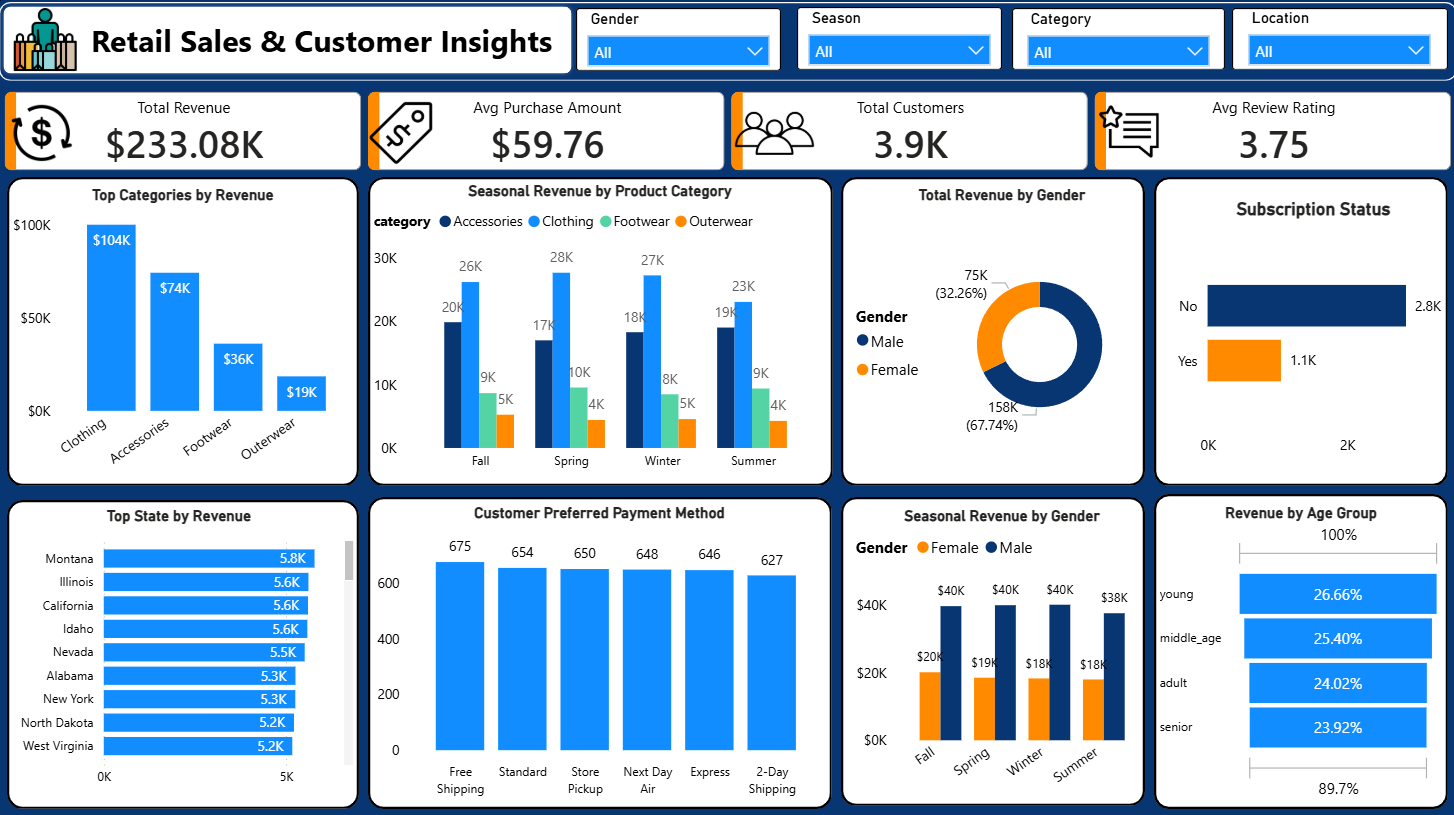

What the dashboard file says about the page in this screenshot:
{"tool":"powerbi","page":{"name":"Page 1","canvas":[1280,720],"ordinal":0},"visuals":[{"type":"shape","box":[0,2.6,1280.2,69.4],"z":0},{"type":"shape","box":[0,2.6,506.6,66.7],"z":1000},{"type":"cardVisual","fields":{"Data":["public customer.Total Revenue","public customer.Avg Purchase Amount","public customer.Number Of Customers","public customer.Avg Review Rating"]},"box":[0,76.4,1280.2,79.9],"z":2000},{"type":"image","box":[7,6.1,67.6,58.8],"z":3000},{"type":"shape","box":[7,156.3,309.1,271.3],"z":4000},{"type":"shape","box":[324,437.3,407.4,274],"z":5000},{"type":"columnChart","title":"Top Categories by Revenue","fields":{"Category":["public customer.category"],"Y":["Sum(public customer.purchase_amount)"]},"box":[7,164.2,309.1,263.4],"z":6000},{"type":"shape","box":[739.3,156.3,266.9,271.3],"z":7000},{"type":"donutChart","title":"Total Revenue by Gender","fields":{"Category":["public customer.gender"],"Y":["Sum(public customer.purchase_amount)"]},"box":[747.2,164.2,266.9,263.4],"z":8000},{"type":"shape","box":[324,156.3,408.3,271.3],"z":9000},{"type":"clusteredColumnChart","title":"Seasonal Revenue  by Product Category","fields":{"Category":["public customer.season"],"Y":["Sum(public customer.purchase_amount)"],"Series":["public customer.category"]},"box":[324,160.7,407.4,262.5],"z":10000},{"type":"shape","box":[1014.1,156.3,258.1,271.3],"z":11000},{"type":"barChart","title":"Subscription Status","fields":{"Category":["public customer.subscription_status"],"Y":["CountNonNull(public customer.subscription_status)"]},"box":[1028.2,174.7,252,235.3],"z":12000},{"type":"shape","box":[7,439.9,309.1,271.3],"z":13000},{"type":"columnChart","title":"Customer Preferred Payment Method","fields":{"Category":["public customer.shipping_type"],"Y":["CountNonNull(public customer.customer_id)"]},"box":[326.6,443.4,401.3,265.2],"z":14000},{"type":"shape","box":[739.3,437.3,266.9,271.3],"z":15000},{"type":"clusteredColumnChart","title":"Seasonal Revenue by Gender","fields":{"Y":["Sum(public customer.purchase_amount)"],"Series":["public customer.gender"],"Category":["public customer.season"]},"box":[747.2,446,266.9,265.2],"z":16000},{"type":"barChart","title":"Top State by Revenue","fields":{"Category":["public customer.location"],"Y":["Sum(public customer.purchase_amount)"]},"box":[0,446,316.1,254.6],"z":17000},{"type":"shape","box":[1014.1,434.6,258.1,276.6],"z":18000},{"type":"shape","box":[506.6,7.9,180,55.3],"z":19000},{"type":"shape","box":[700.7,7,180,55.3],"z":20000},{"type":"shape","box":[889.5,7.9,187,54.4],"z":21000},{"type":"shape","box":[1082.6,7.9,189.7,54.4],"z":22000},{"type":"funnel","title":"Revenue by Age Group","fields":{"Category":["public customer.age_group"],"Y":["Sum(public customer.purchase_amount)"]},"box":[1014.1,443.4,258.1,265.2],"z":23000},{"type":"slicer","fields":{"Values":["public customer.gender"]},"box":[506.6,7,180,58],"z":24000},{"type":"slicer","fields":{"Values":["public customer.season"]},"box":[700.7,6.1,180,58],"z":25000},{"type":"slicer","fields":{"Values":["public customer.category"]},"box":[893,7,180,58],"z":26000},{"type":"slicer","fields":{"Values":["public customer.location"]},"box":[1087,6.1,180,58],"z":27000},{"type":"image","box":[0,71.1,74.6,93.1],"z":28000},{"type":"image","box":[956.2,76.4,72,79.9],"z":29000},{"type":"image","box":[634,72.9,94,89.6],"z":30000},{"type":"image","box":[310,86,86,63.2],"z":31000}]}

Visuals, with their boxes in screenshot pixels (x1, y1, x2, y2), scaled from the page's 1280x720 canvas onto the 1454x815 screenshot:
shape: (left=0, top=3, right=1453, bottom=82)
shape: (left=0, top=3, right=575, bottom=78)
cardVisual - public customer.Total Revenue x public customer.Avg Purchase Amount: (left=0, top=86, right=1453, bottom=177)
image: (left=8, top=7, right=85, bottom=73)
shape: (left=8, top=177, right=359, bottom=484)
shape: (left=368, top=495, right=831, bottom=805)
"Top Categories by Revenue" columnChart: (left=8, top=186, right=359, bottom=484)
shape: (left=840, top=177, right=1143, bottom=484)
"Total Revenue by Gender" donutChart: (left=849, top=186, right=1152, bottom=484)
shape: (left=368, top=177, right=832, bottom=484)
"Seasonal Revenue  by Product Category" clusteredColumnChart: (left=368, top=182, right=831, bottom=479)
shape: (left=1152, top=177, right=1445, bottom=484)
"Subscription Status" barChart: (left=1168, top=198, right=1453, bottom=464)
shape: (left=8, top=498, right=359, bottom=805)
"Customer Preferred Payment Method" columnChart: (left=371, top=502, right=827, bottom=802)
shape: (left=840, top=495, right=1143, bottom=802)
"Seasonal Revenue by Gender" clusteredColumnChart: (left=849, top=505, right=1152, bottom=805)
"Top State by Revenue" barChart: (left=0, top=505, right=359, bottom=793)
shape: (left=1152, top=492, right=1445, bottom=805)
shape: (left=575, top=9, right=780, bottom=72)
shape: (left=796, top=8, right=1000, bottom=71)
shape: (left=1010, top=9, right=1223, bottom=71)
shape: (left=1230, top=9, right=1445, bottom=71)
"Revenue by Age Group" funnel: (left=1152, top=502, right=1445, bottom=802)
slicer - public customer.gender: (left=575, top=8, right=780, bottom=74)
slicer - public customer.season: (left=796, top=7, right=1000, bottom=73)
slicer - public customer.category: (left=1014, top=8, right=1219, bottom=74)
slicer - public customer.location: (left=1235, top=7, right=1439, bottom=73)
image: (left=0, top=80, right=85, bottom=186)
image: (left=1086, top=86, right=1168, bottom=177)
image: (left=720, top=83, right=827, bottom=184)
image: (left=352, top=97, right=450, bottom=169)
